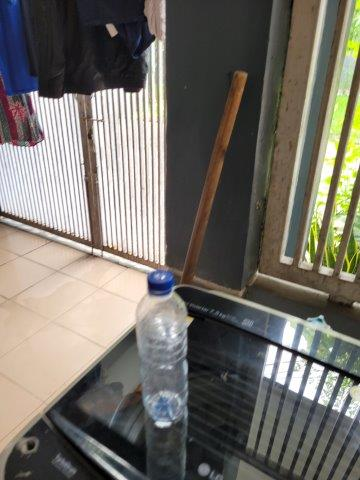botolplastik: (137, 271, 188, 426)
